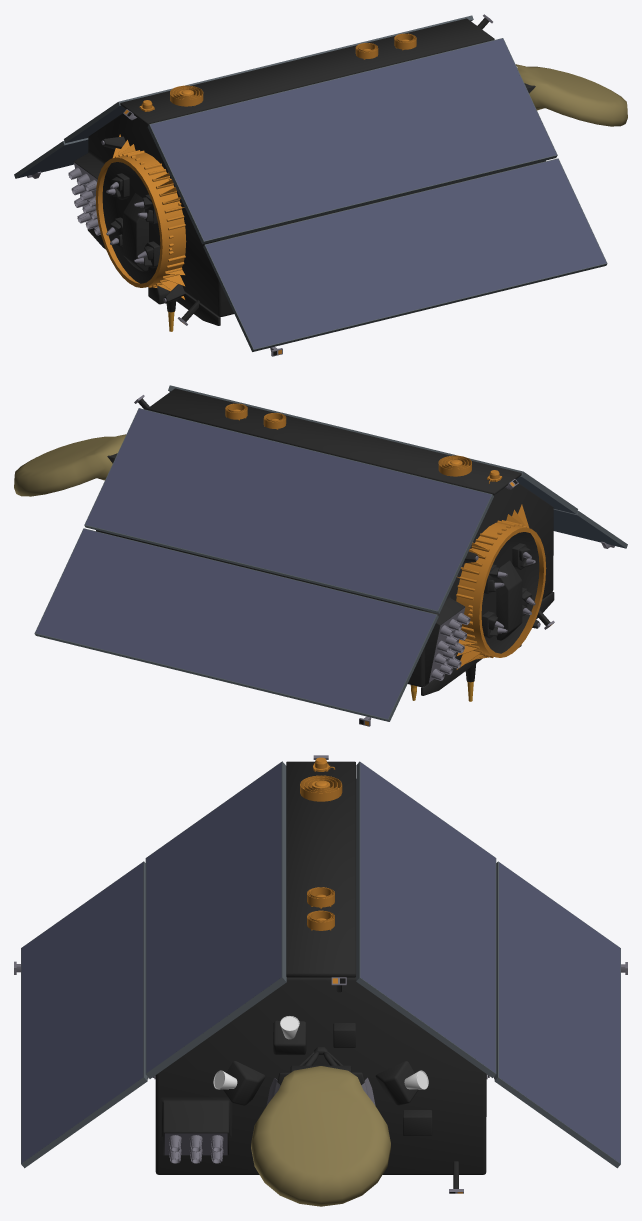
File: Jason Continuity of Service (Sentinel-6).obj
3 renders of one model, top to bottom at view 1: azimuth 30°, elevation 25°; view 2: azimuth 150°, elevation 25°; view 3: azimuth 270°, elevation 25°, orthographic. The views are drawn at different scales.
Visible parts, largest first — view 1: obj12, obj2, obj11, obj27, obj4, obj13, obj22, obj21; view 2: obj12, obj2, obj11, obj27, obj4, obj21, obj13, obj22; view 3: obj12, obj2, obj4, obj11, obj22, obj21, obj31.
Part boxes in pixels (bbox=[...]): obj12: bbox=[150, 38, 606, 348]; obj2: bbox=[73, 18, 545, 325]; obj11: bbox=[14, 15, 607, 351]; obj27: bbox=[95, 134, 186, 299]; obj4: bbox=[515, 64, 627, 126]; obj13: bbox=[16, 20, 472, 178]; obj22: bbox=[139, 33, 416, 111]; obj21: bbox=[68, 162, 100, 235]; obj12: bbox=[35, 408, 491, 718]; obj2: bbox=[96, 388, 554, 695]; obj11: bbox=[34, 385, 627, 721]; obj27: bbox=[456, 504, 546, 669]; obj4: bbox=[14, 434, 126, 496]; obj21: bbox=[429, 607, 470, 682]; obj13: bbox=[168, 390, 625, 548]; obj22: bbox=[225, 403, 502, 483]; obj12: bbox=[21, 762, 620, 1162]; obj2: bbox=[155, 761, 486, 1188]; obj4: bbox=[251, 1066, 390, 1206]; obj11: bbox=[21, 761, 620, 1168]; obj22: bbox=[300, 757, 342, 930]; obj21: bbox=[164, 1133, 227, 1163]; obj31: bbox=[213, 1016, 428, 1089].
Size of the model in its own units: 5.13 by 2.32 by 4.37.
